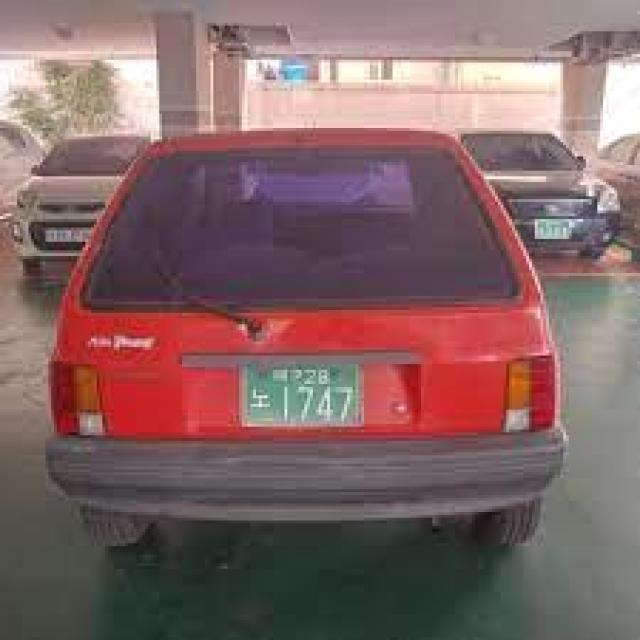car: (34, 120, 572, 557)
illegal_plate: (231, 352, 368, 438)
